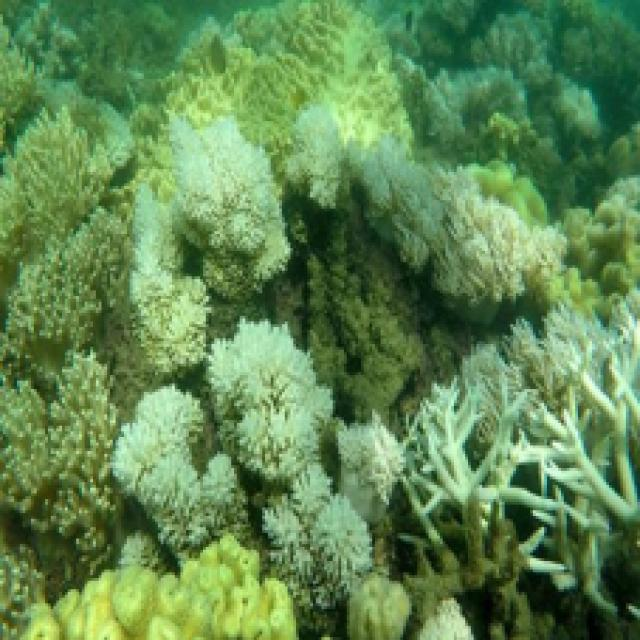Bleached: (401, 322, 638, 613), (404, 308, 638, 458), (359, 139, 562, 303), (114, 384, 243, 548), (173, 119, 289, 286), (210, 320, 331, 480), (263, 466, 370, 607), (131, 184, 207, 373), (286, 108, 342, 207)
Healthy: (162, 1, 410, 167), (24, 537, 297, 638), (1, 353, 117, 576), (1, 212, 119, 370), (7, 108, 111, 258)
